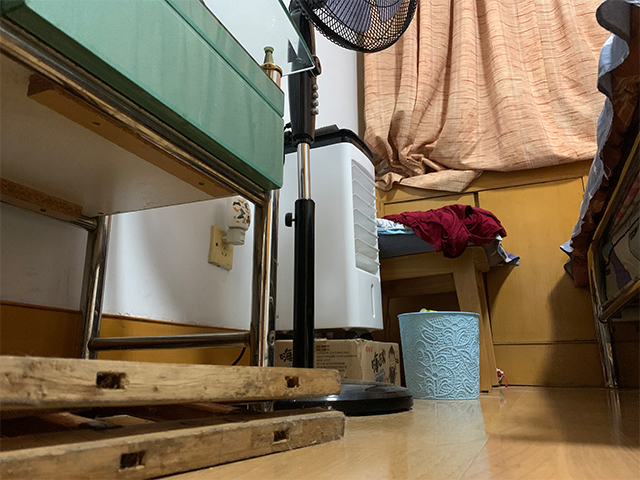cabinet: (375, 161, 607, 386)
stool: (381, 246, 501, 392)
table: (1, 1, 317, 367)
trashcan: (397, 308, 481, 401)
